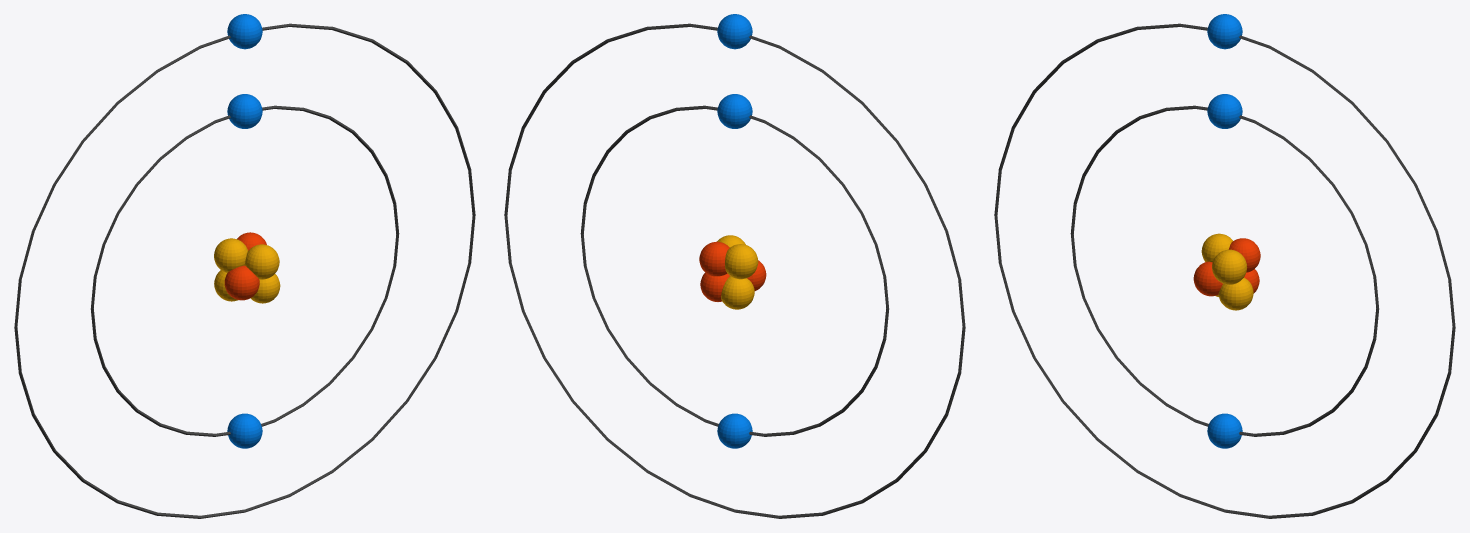
3 renders of one model, left to right at view 1: azimuth 30°, elevation 25°; view 2: azimuth 150°, elevation 25°; view 3: azimuth 330°, elevation 25°, orthographic.
Parts seen in each view (by area): view 1: Orbit1; view 2: Orbit1; view 3: Orbit1.
Boxes of the visible parts, box(x1,y1,x2,y2) form: Orbit1: box(14, 14, 475, 518); Orbit1: box(504, 14, 965, 518); Orbit1: box(994, 14, 1455, 518).
Bounding box in the file's own units: 302 × 311 × 34.29.
